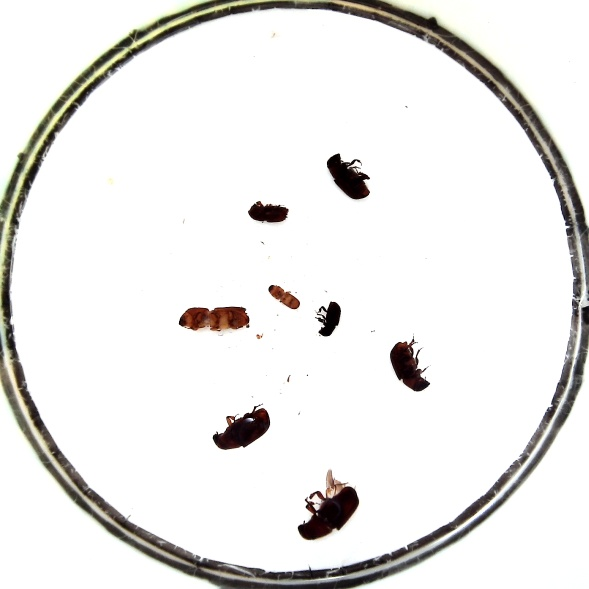acuminatus: (266, 283, 301, 310)
armandi: (316, 301, 342, 336)
boerner: (176, 305, 251, 333)
leconte: (297, 482, 359, 540), (212, 407, 271, 450), (326, 151, 372, 200), (388, 340, 430, 393)
linnaeus: (247, 200, 290, 223)
